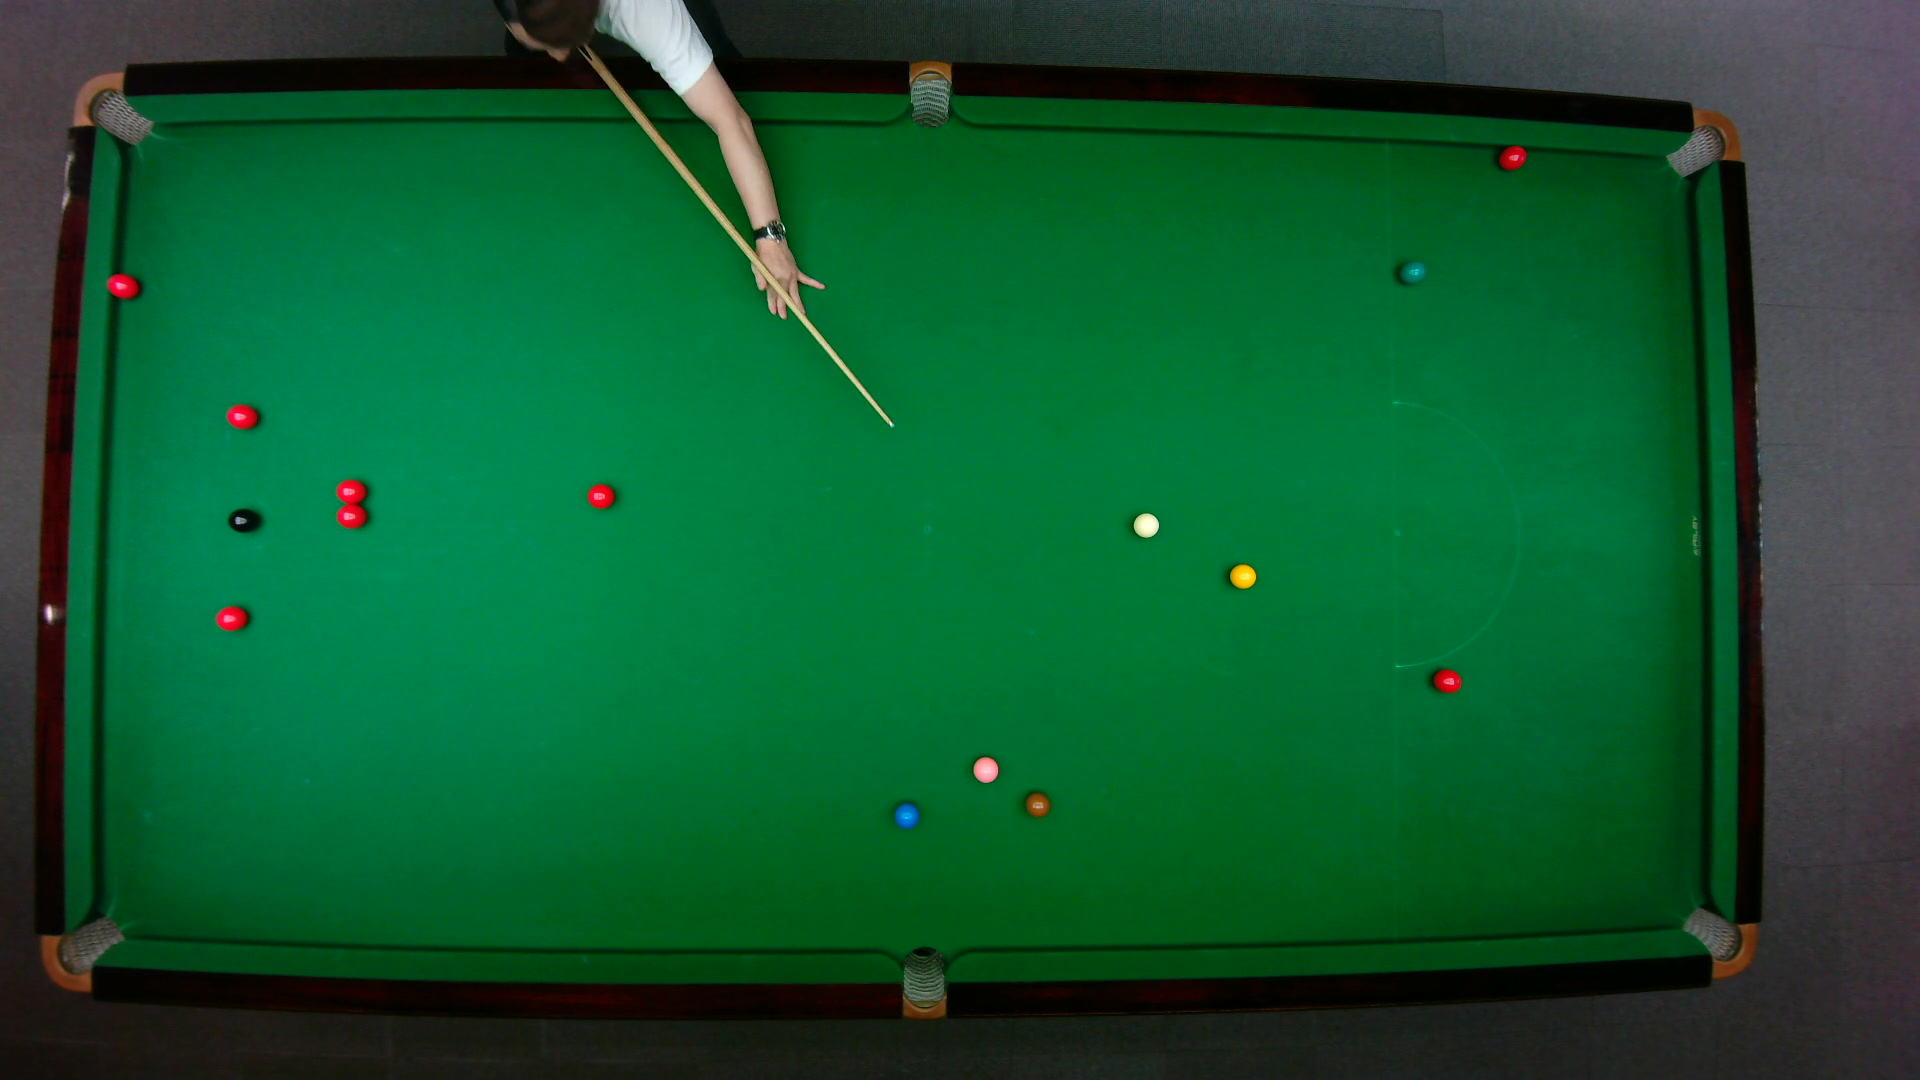bag: (40, 915, 127, 994), (73, 71, 156, 146), (1683, 907, 1758, 980), (1664, 108, 1741, 179), (903, 945, 945, 1021), (909, 61, 952, 129)
black: (227, 506, 262, 534)
blue: (894, 803, 919, 829)
brown: (1025, 793, 1051, 818)
cue: (575, 47, 895, 429)
green: (1398, 260, 1428, 286)
pink: (972, 756, 1000, 785)
red: (107, 273, 140, 301), (225, 404, 258, 430), (336, 479, 368, 504), (336, 504, 368, 529), (587, 484, 616, 510), (1499, 145, 1528, 171), (1433, 669, 1462, 694)
white: (1131, 512, 1160, 539)
yellow: (1229, 563, 1257, 589)
zone: (1391, 400, 1522, 670)
